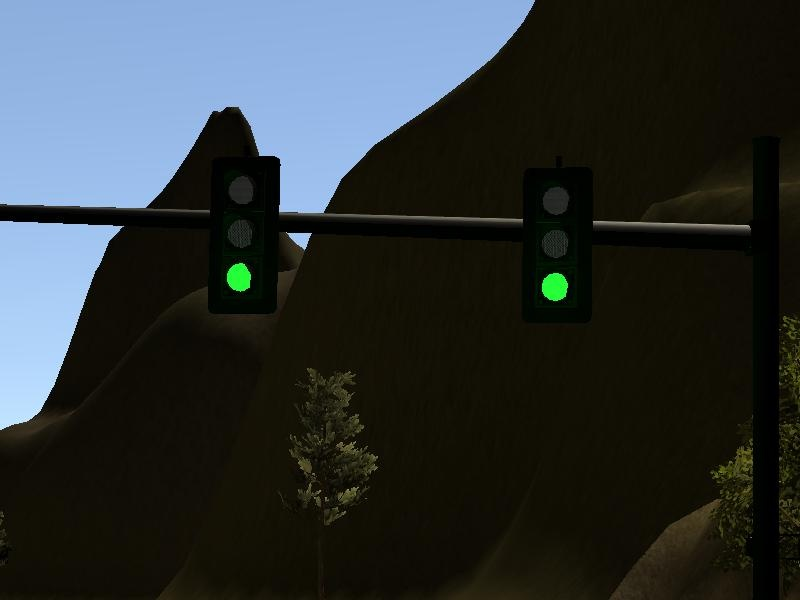GREEN: (519, 171, 592, 322), (206, 154, 279, 305)
